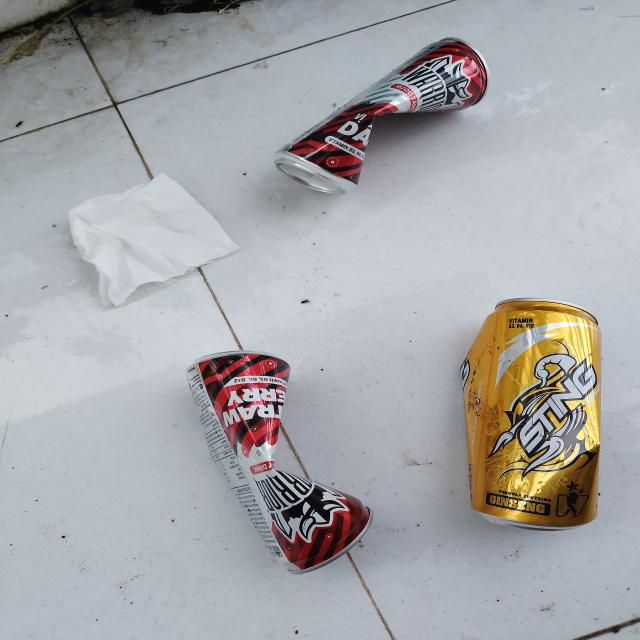can: (188, 352, 373, 575), (272, 38, 491, 199), (462, 296, 605, 533)
napkin: (65, 171, 242, 308)
